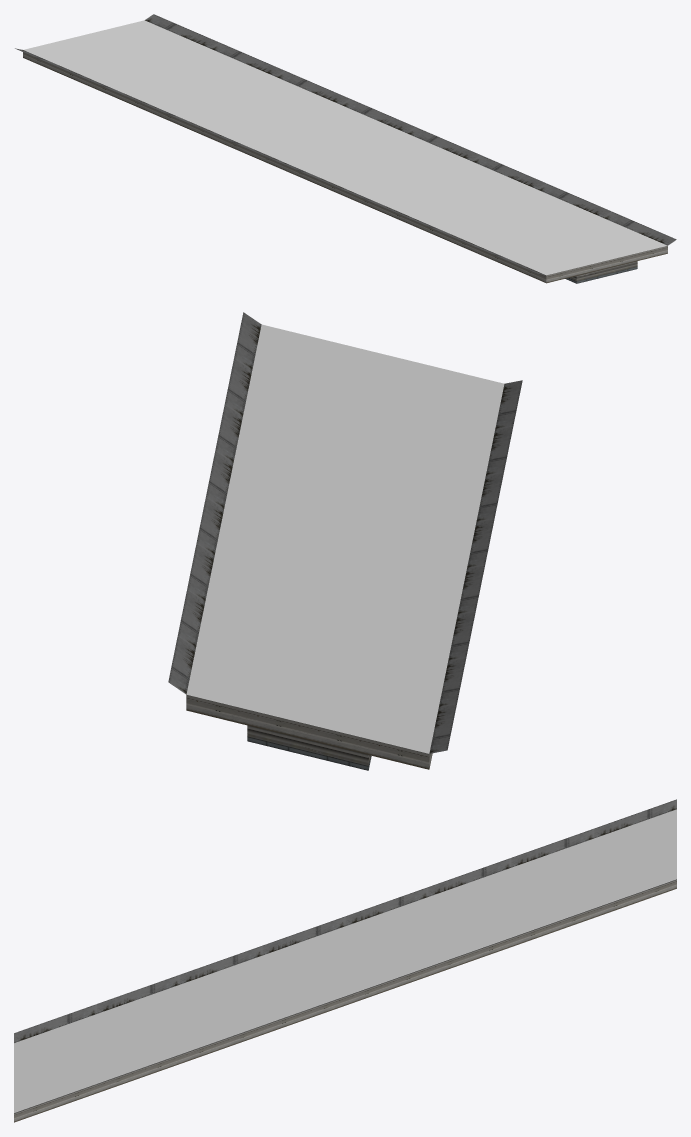
File: ShearSlopeB_L.fbx
The picture shows the model from 3 angles, top to bottom: view 1: azimuth 30°, elevation 25°; view 2: azimuth 150°, elevation 25°; view 3: azimuth 270°, elevation 25°; orthographic projection. The views are drawn at different scales.
Visible parts, largest first — view 1: Empty_Mesh; view 2: Empty_Mesh; view 3: Empty_Mesh.
Boxes of the visible parts, box(x1,y1,x2,y2) form: Empty_Mesh: box(15, 14, 676, 283); Empty_Mesh: box(168, 312, 522, 770); Empty_Mesh: box(14, 799, 676, 1122).
Bounding box in the file's own units: 50.4 × 12.5 × 64.
